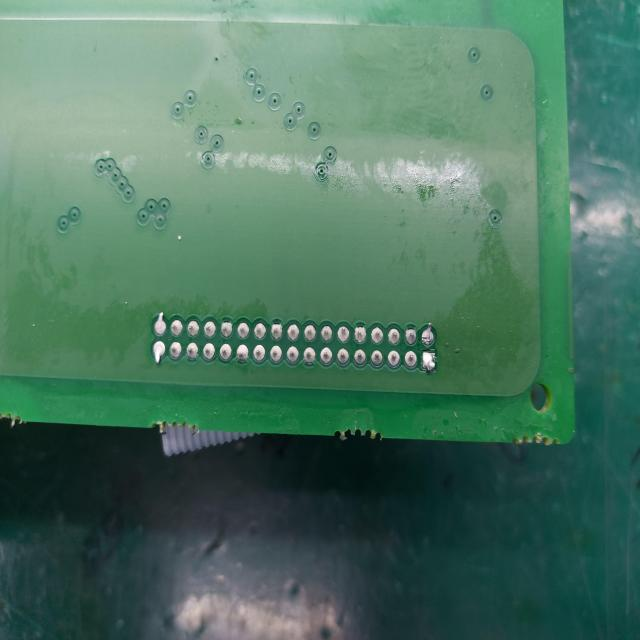redundant: (421, 350, 435, 371)
